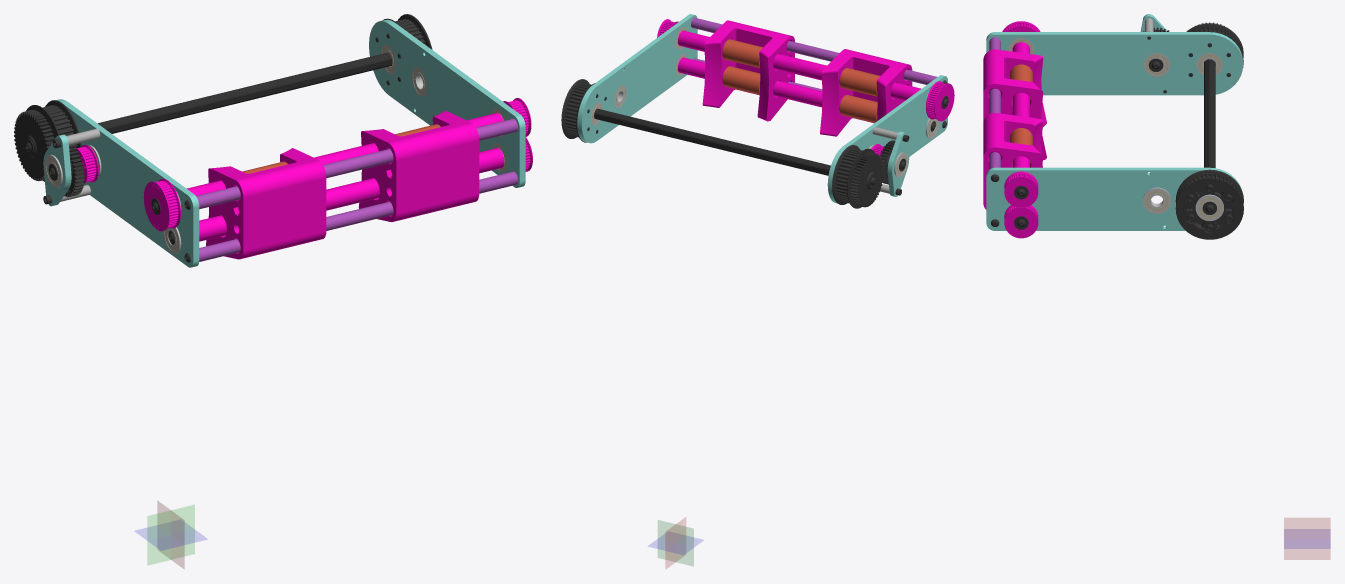
The picture shows the model from 3 angles, left to right: view 1: azimuth 30°, elevation 25°; view 2: azimuth 150°, elevation 25°; view 3: azimuth 270°, elevation 25°; orthographic projection. The views are drawn at different scales.
Parts seen in each view (by area): view 1: LAU-R-04 (×2), LAU-P-06 (×2), LAU-P-07 (×2), 0.5" Alum Rod_13.5_inch (×2), 1/2" Rounded Hex (16.135" L, 13.75mm OD, 7075), XZ Plane, 50t Pocketed Steel Spur Gear (20 DP, 1/2" Hex Bore), 47t GT2 3mm Pulley (0.375" Wide, 1/2" Hex Bore w/ TTB Insert, 1/2" Hex Bore Custom Spacer (0.75" OD,4.438" L), YZ Plane, LAU-R-05, XY Plane (+1 smaller); view 2: LAU-R-04 (×2), LAU-P-07 (×2), LAU-P-06 (×2), 1/2" Rounded Hex (16.135" L, 13.75mm OD, 7075), 42t Plastic Pulley Half (HTD 5mm, 1.125" Bearing Bore) (×3), 1/2" Hex Bore Custom Spacer (0.75" OD,4.438" L) (×2), 50t Pocketed Steel Spur Gear (20 DP, 1/2" Hex Bore), XZ Plane, 0.5" Alum Rod_13.5_inch, 47t GT2 3mm Pulley (0.375" Wide, 1/2" Hex Bore w/ TTB Insert, LAU-R-05, YZ Plane (+1 smaller); view 3: LAU-R-04 (×2), 42t Plastic Pulley Half (HTD 5mm, 1.125" Bearing Bore) (×3), LAU-P-07 (×2), LAU-P-06 (×2), YZ Plane, 36t GT2 3mm Pulley (0.437" Wide, *0.506" Hex Bore) (×2), 1/2" Rounded Hex (16.135" L, 13.75mm OD, 7075), 1/2" Rounded Hex (13.75mm) ID Bearing (1.125" OD, 0.313" WD, (×2), XY Plane, 0.5" Alum Rod_13.5_inch.
Part boxes in pixels (x1,y1,x2,y2): LAU-R-04 (×2): [56, 19, 525, 267]; LAU-P-06 (×2): [206, 129, 437, 259]; LAU-P-07 (×2): [273, 110, 479, 248]; 0.5" Alum Rod_13.5_inch (×2): [196, 118, 517, 261]; 1/2" Rounded Hex (16.135" L, 13.75mm OD, 7075): [98, 52, 392, 133]; XZ Plane: [147, 505, 194, 564]; 50t Pocketed Steel Spur Gear (20 DP, 1/2" Hex Bore): [14, 109, 54, 181]; 47t GT2 3mm Pulley (0.375" Wide, 1/2" Hex Bore w/ TTB Insert: [143, 179, 180, 231]; 1/2" Hex Bore Custom Spacer (0.75" OD,4.438" L): [326, 178, 379, 210]; YZ Plane: [157, 501, 184, 568]; LAU-R-05: [43, 134, 71, 206]; XY Plane: [135, 522, 207, 550]; LAU-R-04 (×2): [577, 14, 947, 203]; LAU-P-07 (×2): [702, 20, 876, 136]; LAU-P-06 (×2): [754, 28, 912, 123]; 1/2" Rounded Hex (16.135" L, 13.75mm OD, 7075): [594, 108, 830, 175]; 42t Plastic Pulley Half (HTD 5mm, 1.125" Bearing Bore) (×3): [561, 79, 875, 208]; 1/2" Hex Bore Custom Spacer (0.75" OD,4.438" L) (×2): [773, 53, 843, 110]; 50t Pocketed Steel Spur Gear (20 DP, 1/2" Hex Bore): [850, 152, 884, 207]; XZ Plane: [658, 520, 693, 566]; 0.5" Alum Rod_13.5_inch: [691, 17, 937, 84]; 47t GT2 3mm Pulley (0.375" Wide, 1/2" Hex Bore w/ TTB Insert: [926, 81, 954, 121]; LAU-R-05: [887, 131, 909, 196]; YZ Plane: [665, 517, 685, 568]; LAU-R-04 (×2): [986, 32, 1243, 230]; 42t Plastic Pulley Half (HTD 5mm, 1.125" Bearing Bore) (×3): [1175, 23, 1243, 239]; LAU-P-07 (×2): [983, 66, 1046, 209]; LAU-P-06 (×2): [983, 49, 1046, 167]; YZ Plane: [1284, 518, 1330, 559]; 36t GT2 3mm Pulley (0.437" Wide, *0.506" Hex Bore) (×2): [1004, 171, 1038, 238]; 1/2" Rounded Hex (16.135" L, 13.75mm OD, 7075): [1204, 59, 1215, 167]; 1/2" Rounded Hex (13.75mm) ID Bearing (1.125" OD, 0.313" WD, (×2): [1143, 187, 1223, 221]; XY Plane: [1284, 529, 1330, 548]; 0.5" Alum Rod_13.5_inch: [989, 37, 1000, 169].
Bounding box in the file's own units: 0.4249 × 0.5561 × 0.3779.
